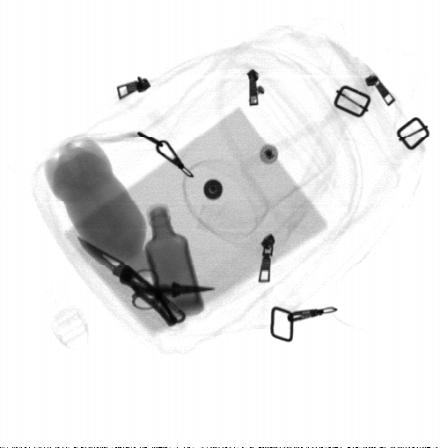Knife: (77, 235, 186, 326)
Scissors: (131, 267, 216, 311)
